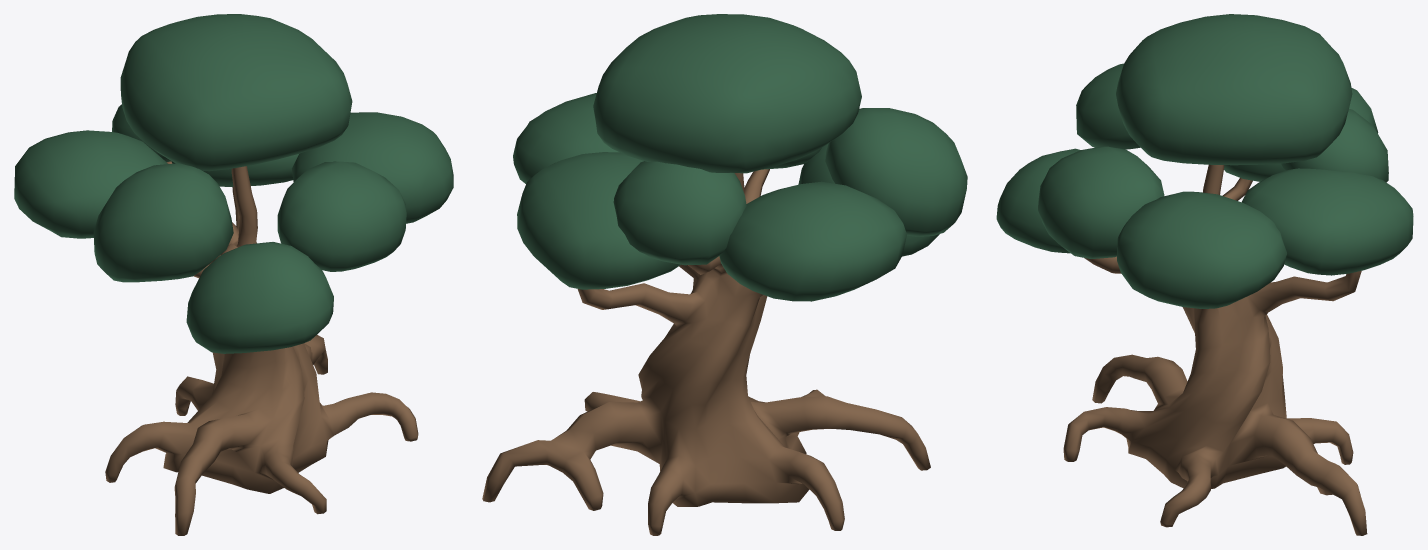
The model's file is tree04.fbx.
3 views of the same model, side by side, from view 1: azimuth 30°, elevation 25°; view 2: azimuth 150°, elevation 25°; view 3: azimuth 270°, elevation 25° (orthographic). The views are drawn at different scales.
Parts seen in each view (by area): view 1: TreeGiant_B_01_LOD1_Mat_Nature_0.002, TreeGiant_B_01_LOD1_Mat_Nature_0.003; view 2: TreeGiant_B_01_LOD1_Mat_Nature_0.002, TreeGiant_B_01_LOD1_Mat_Nature_0.003; view 3: TreeGiant_B_01_LOD1_Mat_Nature_0.002, TreeGiant_B_01_LOD1_Mat_Nature_0.003.
Part boxes in pixels (box(x1,y1,x2,y2)): TreeGiant_B_01_LOD1_Mat_Nature_0.002: box(14, 14, 453, 353); TreeGiant_B_01_LOD1_Mat_Nature_0.003: box(105, 161, 418, 535); TreeGiant_B_01_LOD1_Mat_Nature_0.002: box(513, 14, 967, 301); TreeGiant_B_01_LOD1_Mat_Nature_0.003: box(482, 169, 930, 535); TreeGiant_B_01_LOD1_Mat_Nature_0.002: box(996, 14, 1413, 308); TreeGiant_B_01_LOD1_Mat_Nature_0.003: box(1063, 164, 1367, 535).
Bounding box in the file's own units: 4.46 × 4.84 × 4.26.
